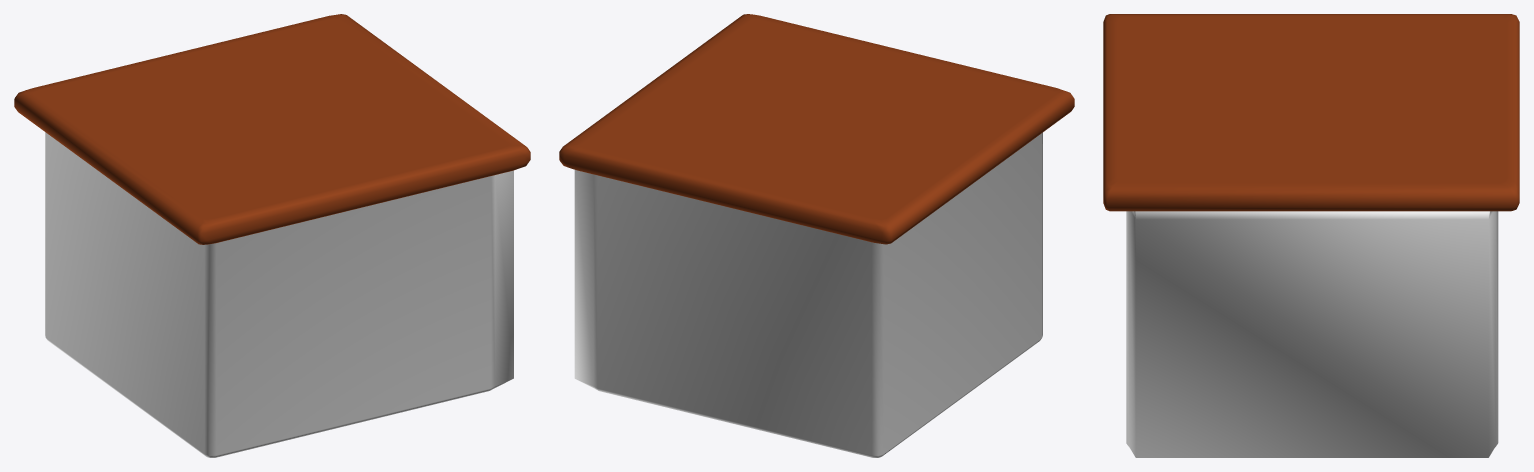
File: BasicBench.glb
3 renders of one model, left to right at view 1: azimuth 30°, elevation 25°; view 2: azimuth 150°, elevation 25°; view 3: azimuth 270°, elevation 25°, orthographic. The views are drawn at different scales.
Parts seen in each view (by area): view 1: Cube.001; view 2: Cube.001; view 3: Cube.001.
Part boxes in pixels (x1=…): Cube.001: x1=14, y1=14, x2=530, y2=457; Cube.001: x1=559, y1=14, x2=1074, y2=457; Cube.001: x1=1103, y1=14, x2=1519, y2=457.
Size of the model in its own units: 0.9205 by 0.6511 by 0.8961.
